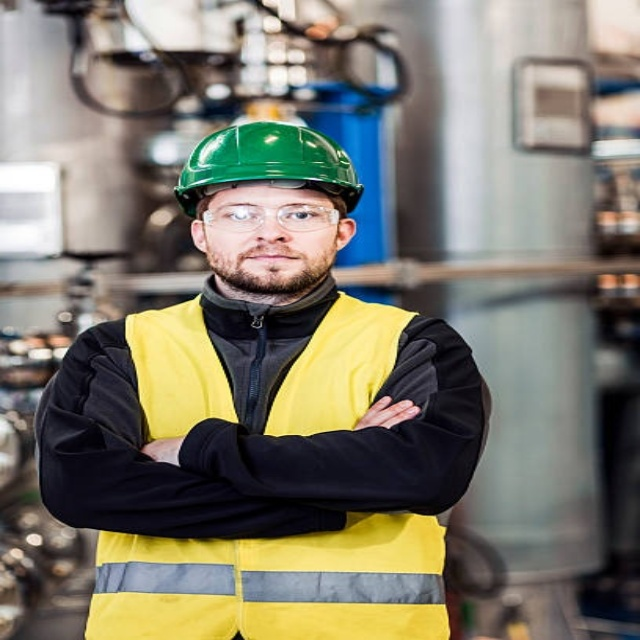Gafas: (200, 203, 343, 233)
Sin_guantes: (351, 395, 421, 431)
Sin_mascara: (240, 248, 307, 280)
